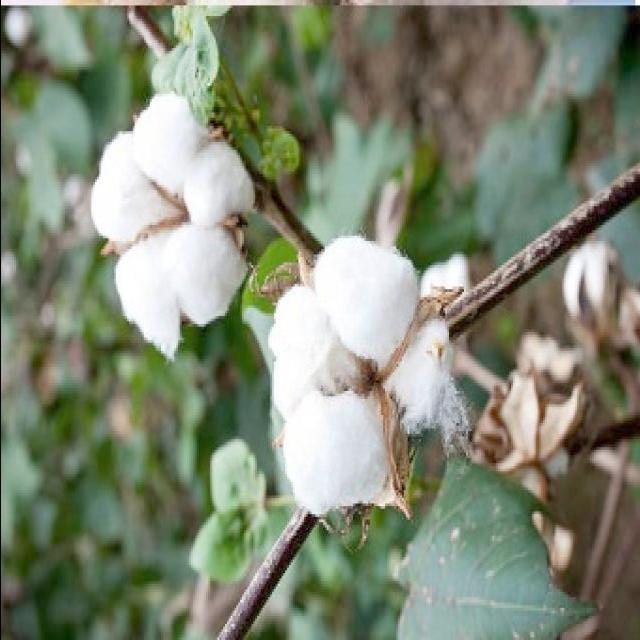Matured Cotton Boll: (258, 235, 468, 515), (85, 98, 265, 340)
